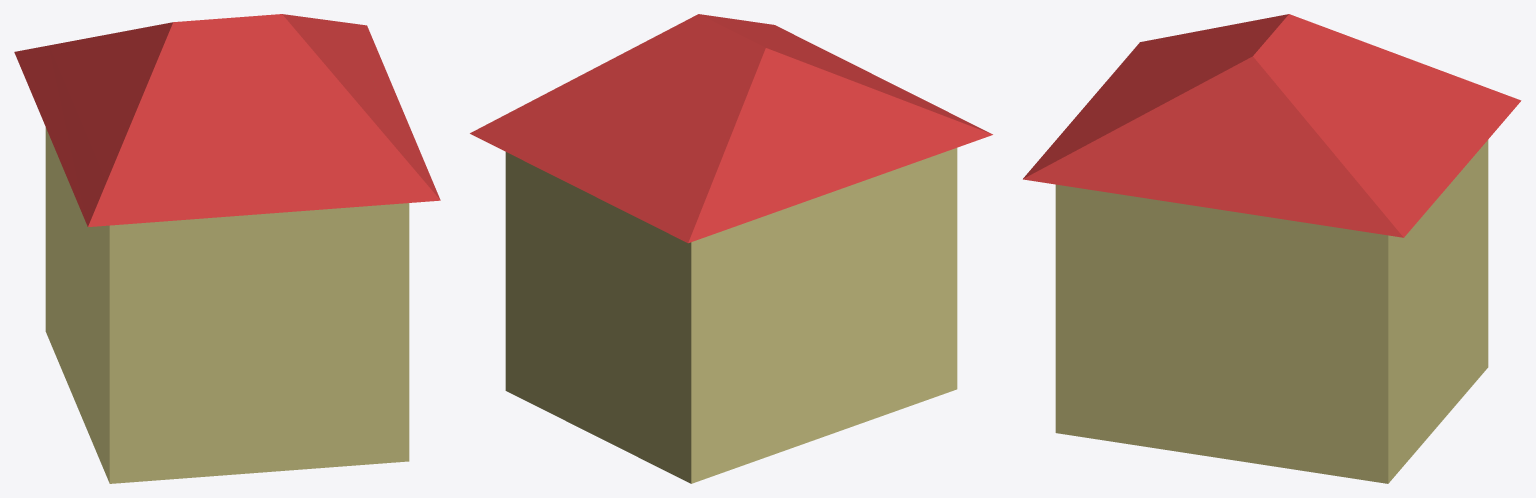
3 views of the same model, side by side, from view 1: azimuth 30°, elevation 25°; view 2: azimuth 150°, elevation 25°; view 3: azimuth 270°, elevation 25° (orthographic). The views are drawn at different scales.
Parts seen in each view (by area): view 1: group_5, group_3, group_4; view 2: group_5, group_3, group_4; view 3: group_5, group_3, group_4.
Part boxes in pixels (bbox=[...]): group_5: bbox=[45, 127, 409, 483]; group_3: bbox=[28, 14, 440, 223]; group_4: bbox=[14, 23, 440, 226]; group_5: bbox=[505, 108, 957, 483]; group_3: bbox=[506, 14, 955, 242]; group_4: bbox=[470, 22, 992, 242]; group_5: bbox=[1055, 140, 1488, 483]; group_3: bbox=[1023, 14, 1519, 236]; group_4: bbox=[1023, 36, 1521, 237].
Size of the model in its own units: 17.75 by 19.14 by 15.44.
